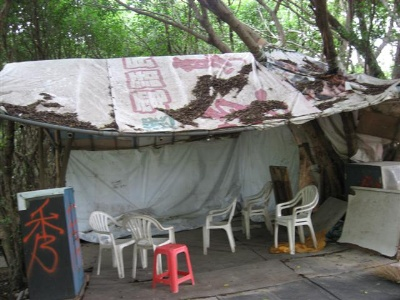plastic_bag: (1, 56, 400, 129), (67, 142, 219, 228)
